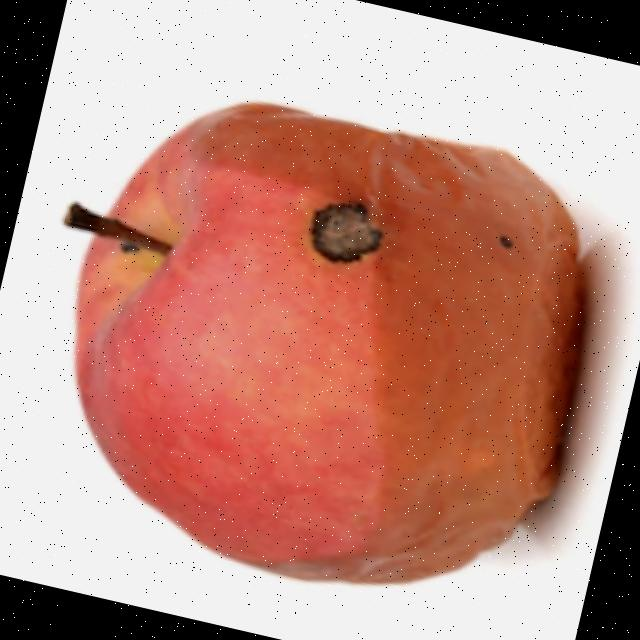Rotten: (15, 57, 624, 640)
